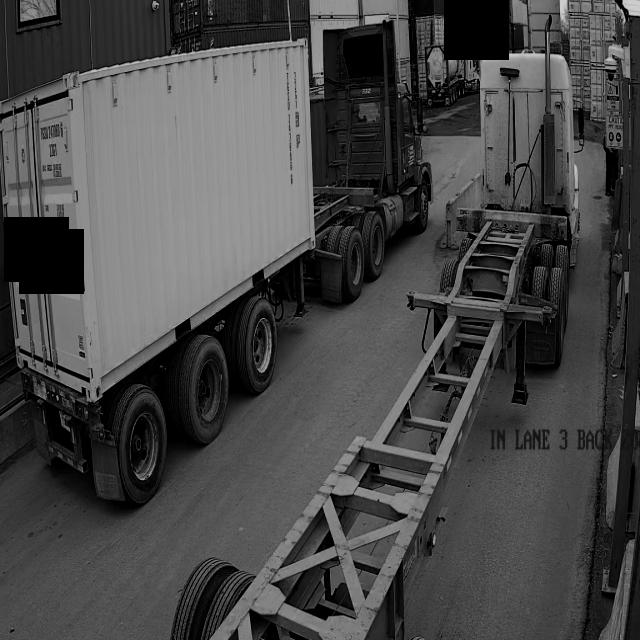company_logo: (314, 21, 433, 280)
container: (8, 0, 527, 97)
container_number: (241, 40, 314, 253), (35, 98, 79, 324), (48, 314, 85, 368)
license_plate: (59, 411, 73, 439)
truck_with_container: (0, 22, 432, 504)
truck_without_container: (173, 49, 584, 640)
